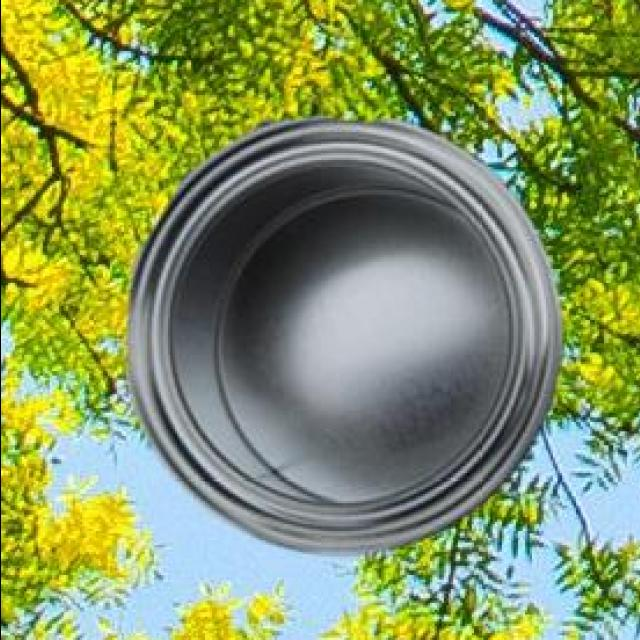logam: (122, 112, 558, 551)
